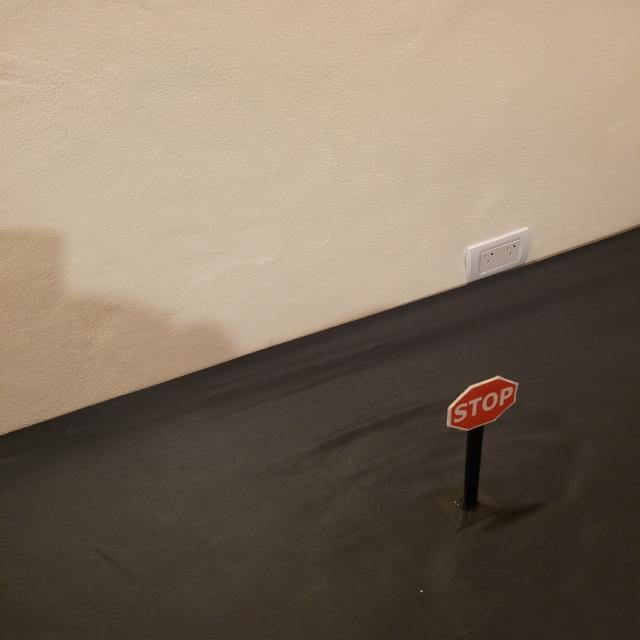stop: (445, 375, 519, 432)
